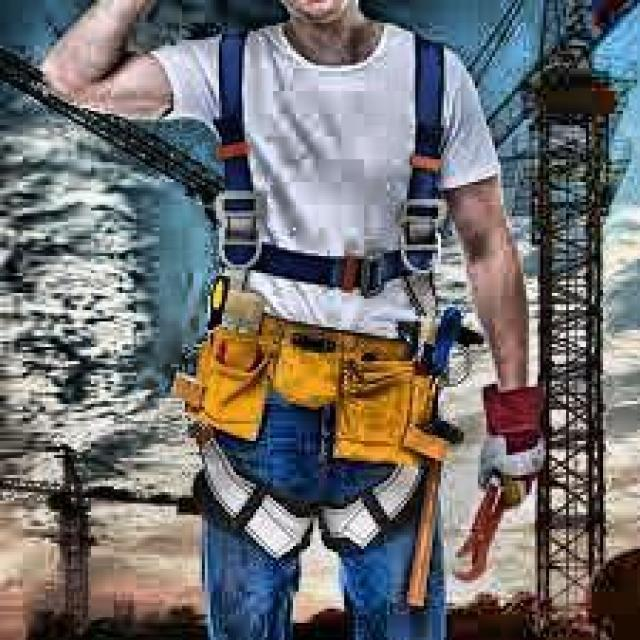belt: (170, 22, 490, 564)
